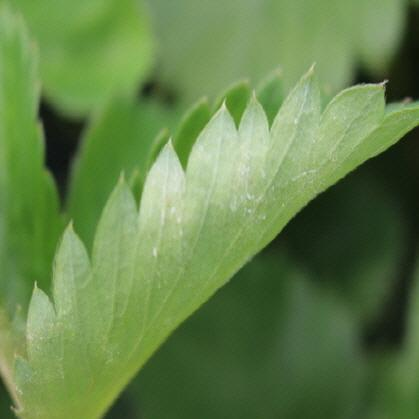Powdery Mildew Leaf: (0, 60, 418, 418)
